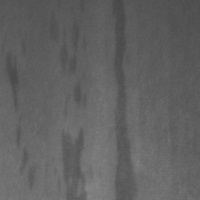inclusion: (101, 1, 140, 199), (5, 36, 40, 188), (46, 2, 94, 74), (60, 126, 88, 200), (63, 77, 89, 119)
